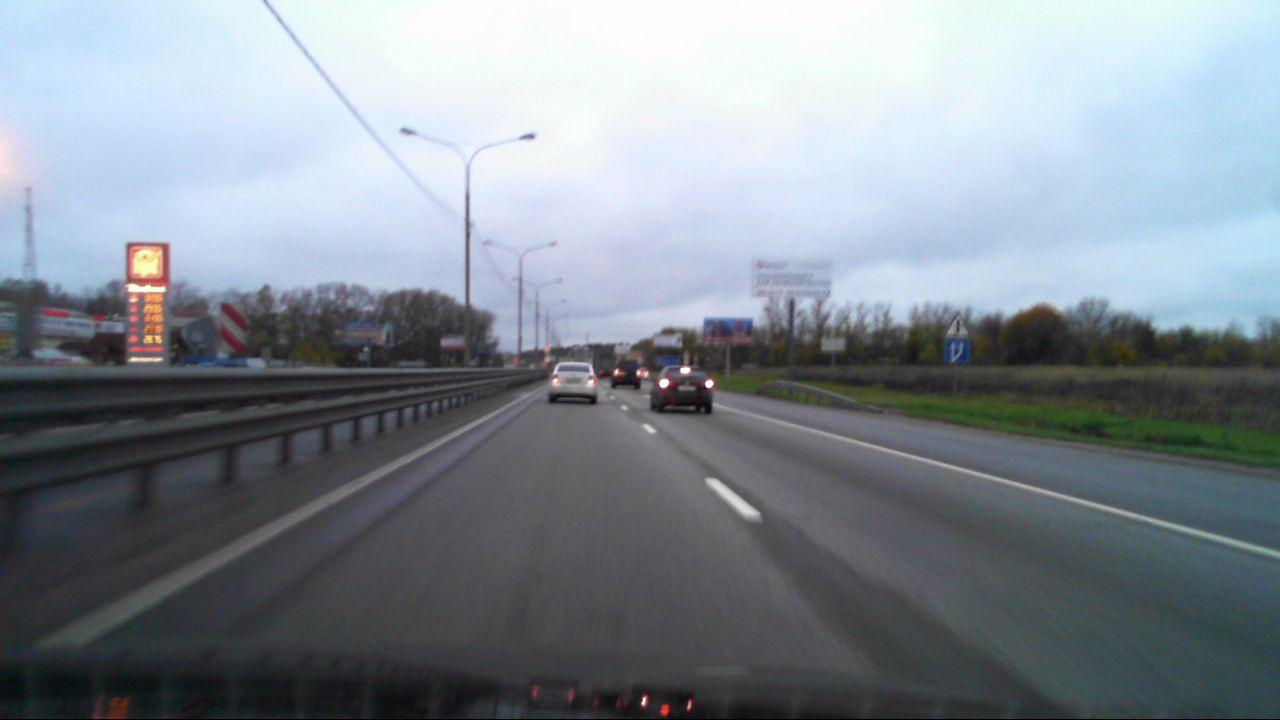2_3_2: (943, 311, 971, 338)
5_15_3: (944, 340, 971, 364)
